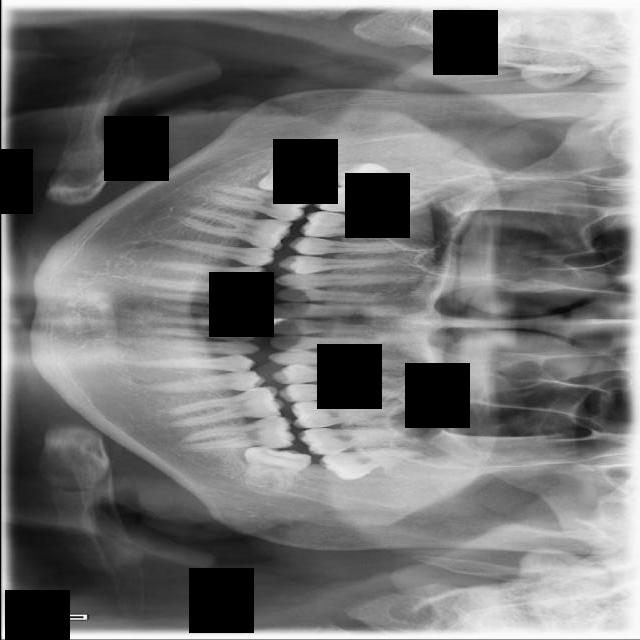3M ESPE Implant: (333, 159, 443, 202)
73: (48, 583, 60, 587)
BioHorizons Implant: (296, 423, 420, 456)
BioLife Implant: (319, 444, 427, 483)
Biomet 3i Implant: (242, 445, 314, 497)
Blue Sky Bio Implant: (178, 415, 295, 452)
Caries: (313, 188, 426, 212)
Implant: (202, 184, 313, 223)
Keystone Dental Implant: (253, 143, 332, 195)
